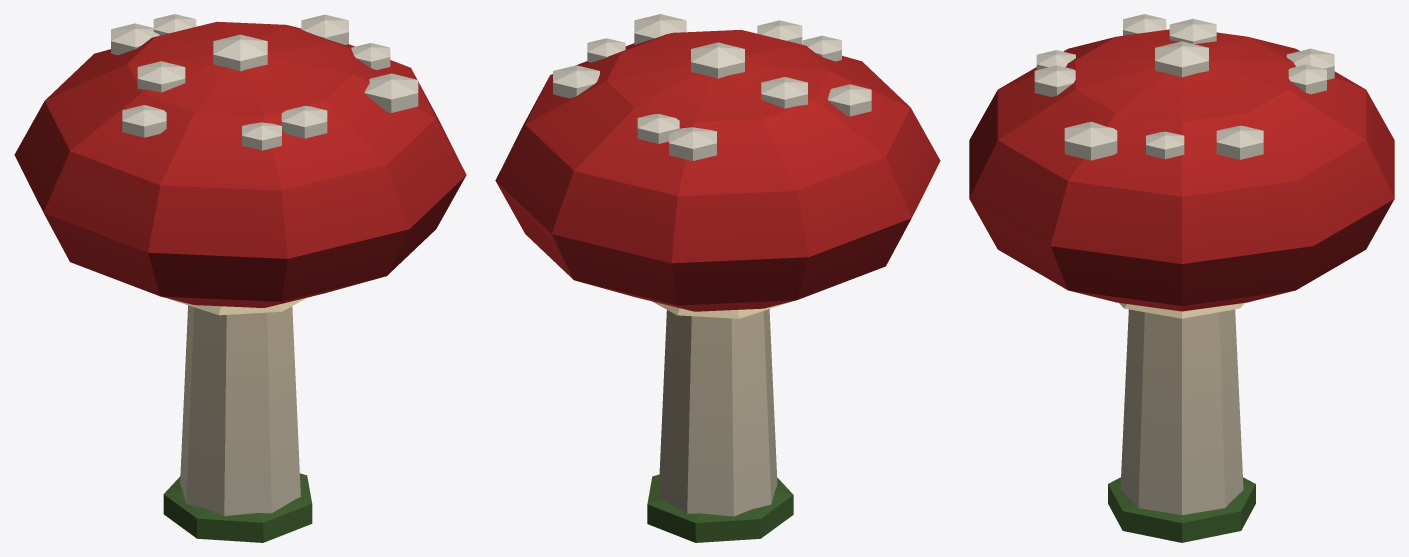
File: toadstool_big.glb
The picture shows the model from 3 angles, left to right: view 1: azimuth 30°, elevation 25°; view 2: azimuth 150°, elevation 25°; view 3: azimuth 270°, elevation 25°; orthographic projection.
Parts seen in each view (by area): view 1: toadstool_big; view 2: toadstool_big; view 3: toadstool_big.
Part boxes in pixels (x1=…): toadstool_big: x1=14, y1=14, x2=466, y2=542; toadstool_big: x1=495, y1=14, x2=940, y2=542; toadstool_big: x1=969, y1=14, x2=1394, y2=542.
Size of the model in its own units: 2.3 by 2.69 by 2.19.
